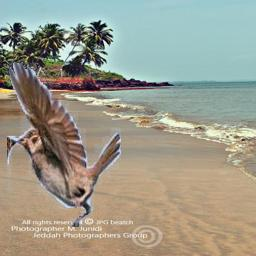Sparrow: (7, 62, 121, 227)
